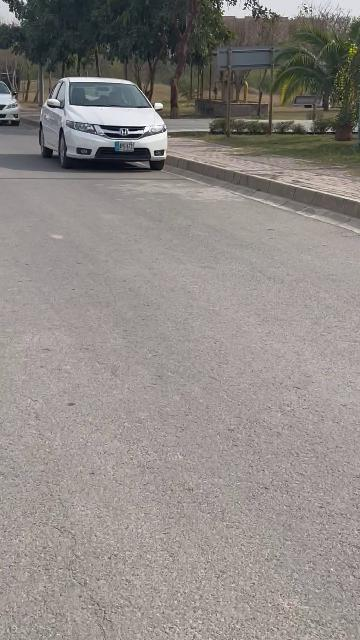plate: (114, 142, 135, 152)
